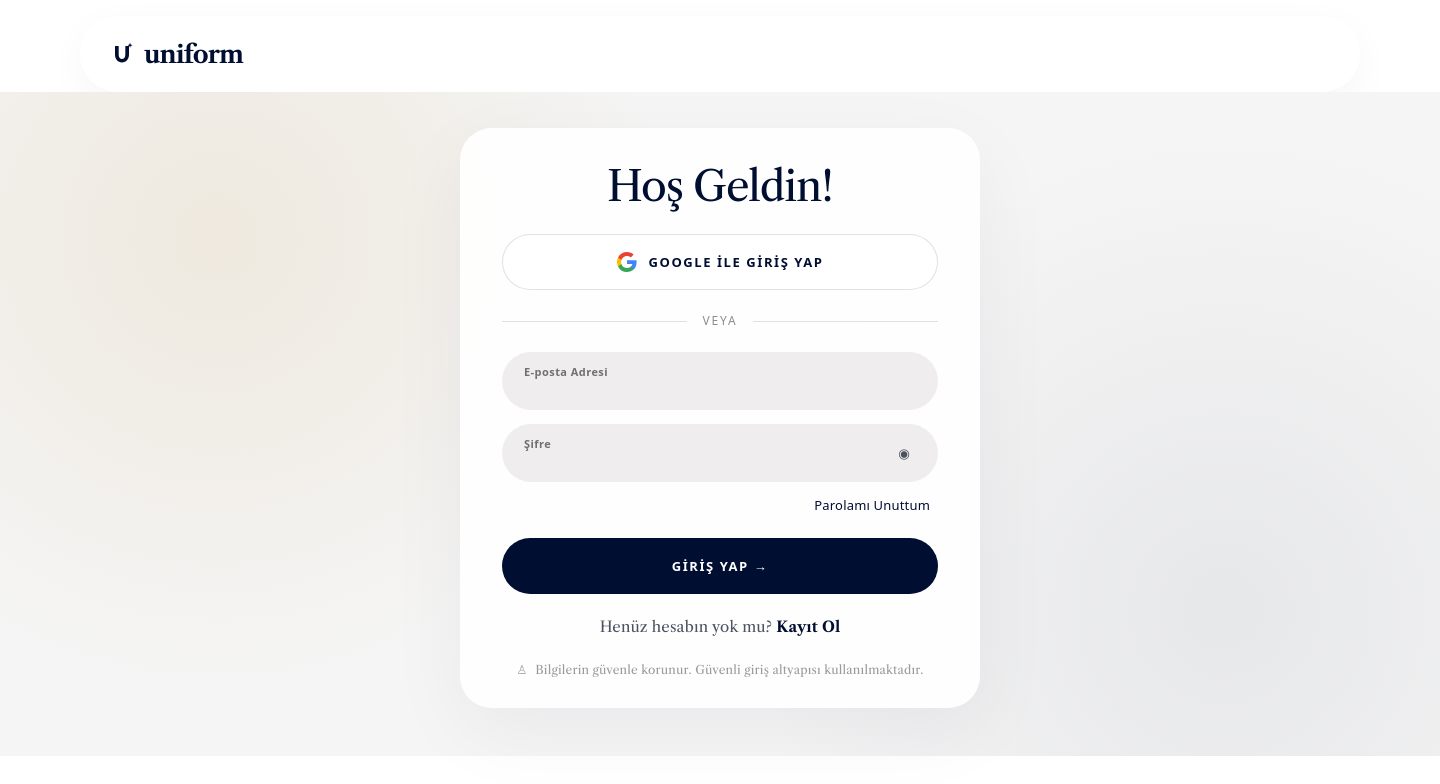
Test: auth page family › keeps a safe login error state
Type "ada@example.com" into the field labelled "E-posta Adresi" at point(720, 381), box [502,352,938,410]
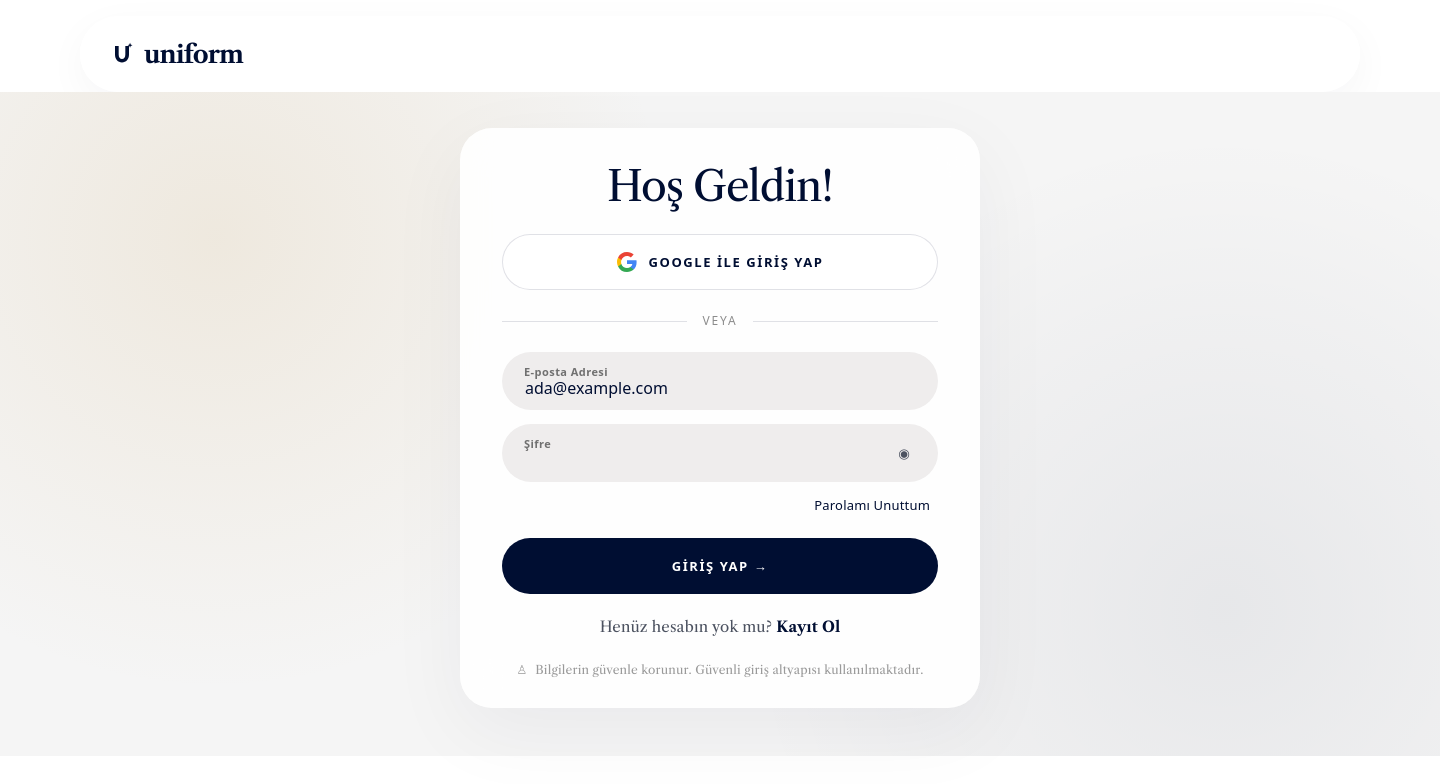
Type "yanlis" into the password field labelled "Şifre" at point(720, 453), box [502,424,938,482]
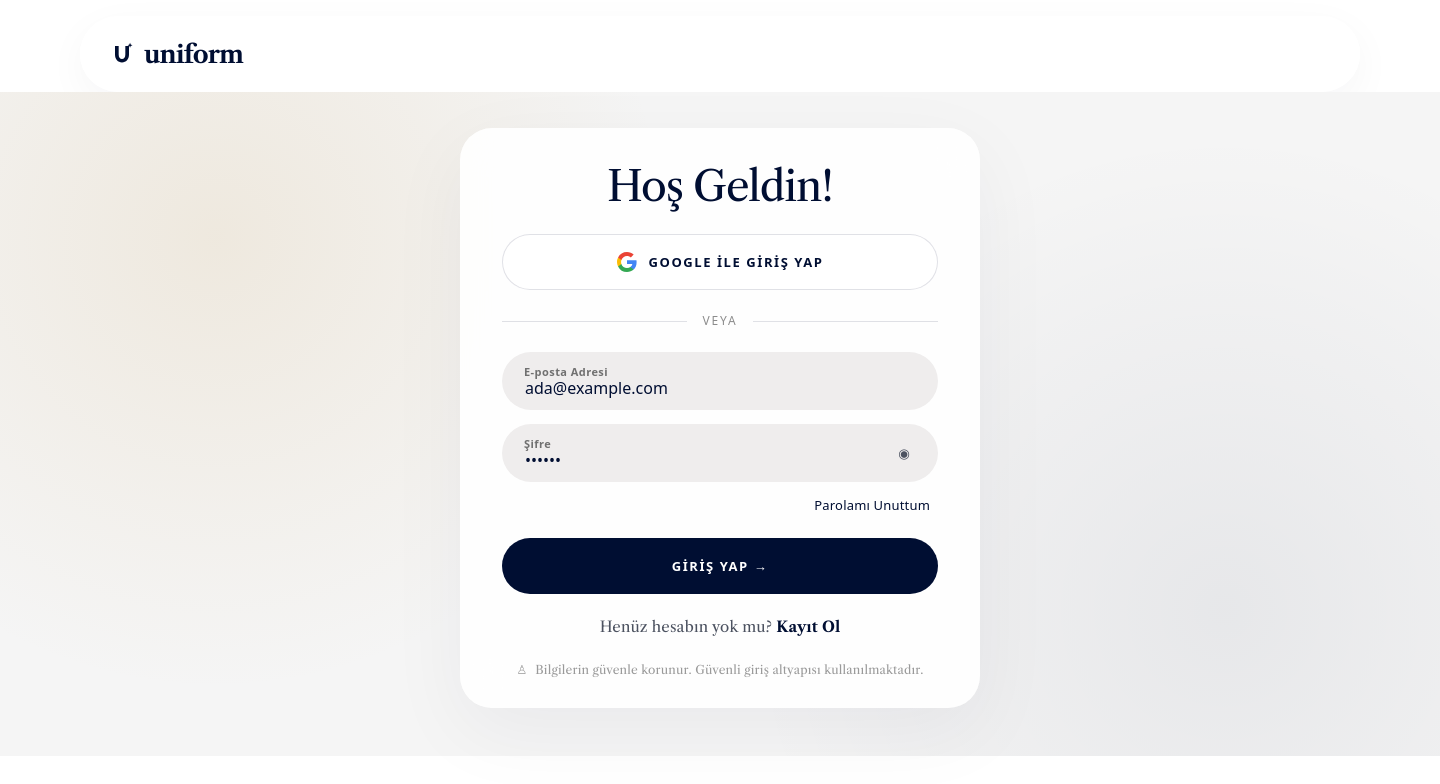
Click the button "Giriş Yap →" at point(720, 566), box [502,538,938,594]
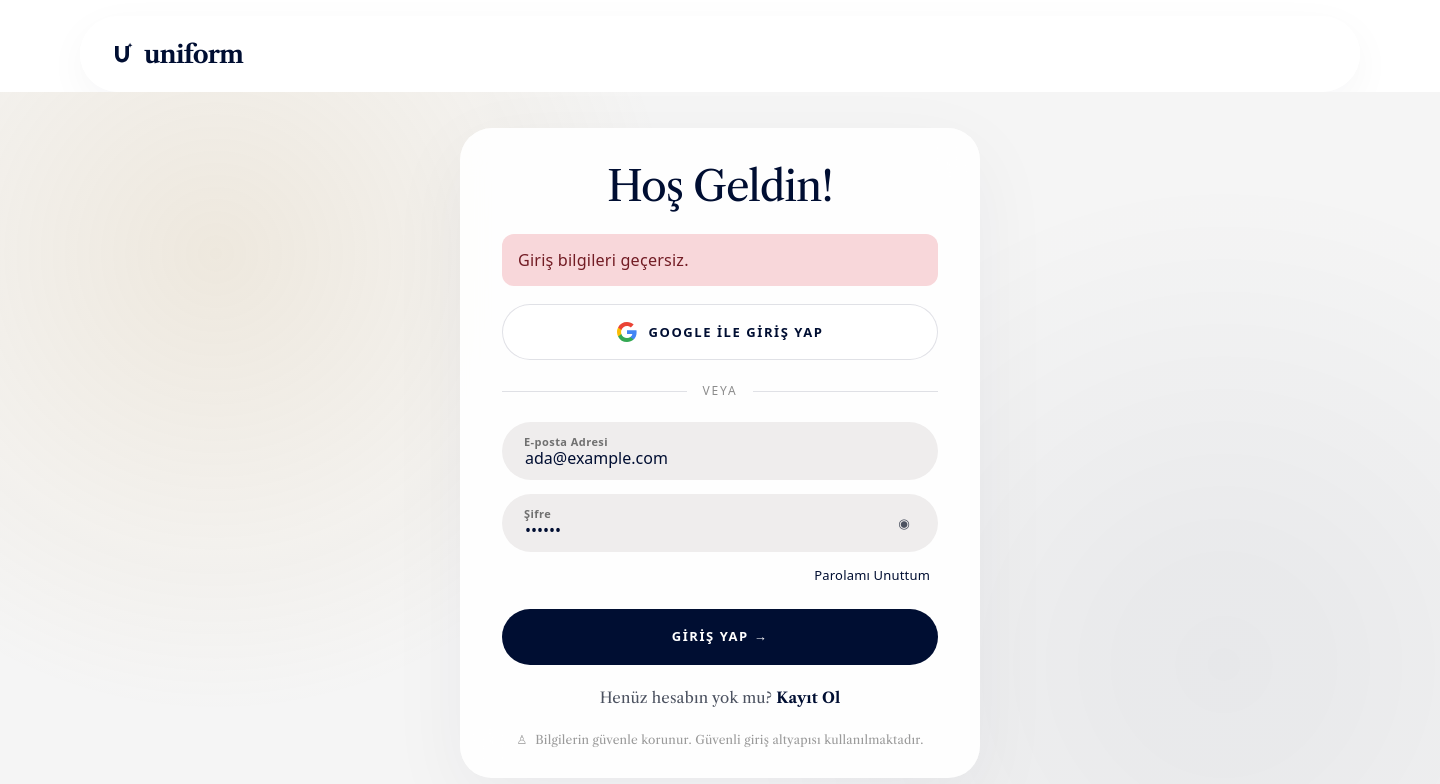
Now the text "Giriş bilgileri geçersiz." is shown, box [518,249,689,271]
